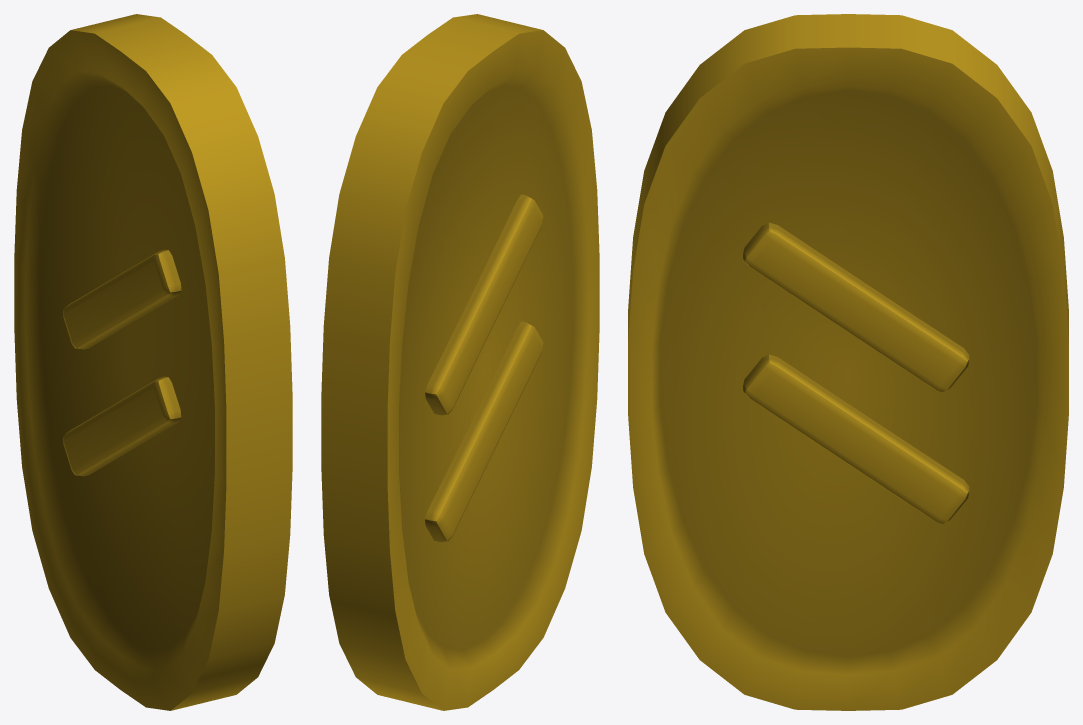
Rendered from Coin.fbx.
3 views of the same model, side by side, from view 1: azimuth 30°, elevation 25°; view 2: azimuth 150°, elevation 25°; view 3: azimuth 270°, elevation 25° (orthographic). The views are drawn at different scales.
Parts seen in each view (by area): view 1: Coin; view 2: Coin; view 3: Coin.
Boxes of the visible parts, x1,y1,x2,y2 form: Coin: (14, 14, 292, 710); Coin: (321, 14, 599, 710); Coin: (628, 14, 1068, 710).
Bounding box in the file's own units: 0.1991 × 1.6 × 0.9617.
